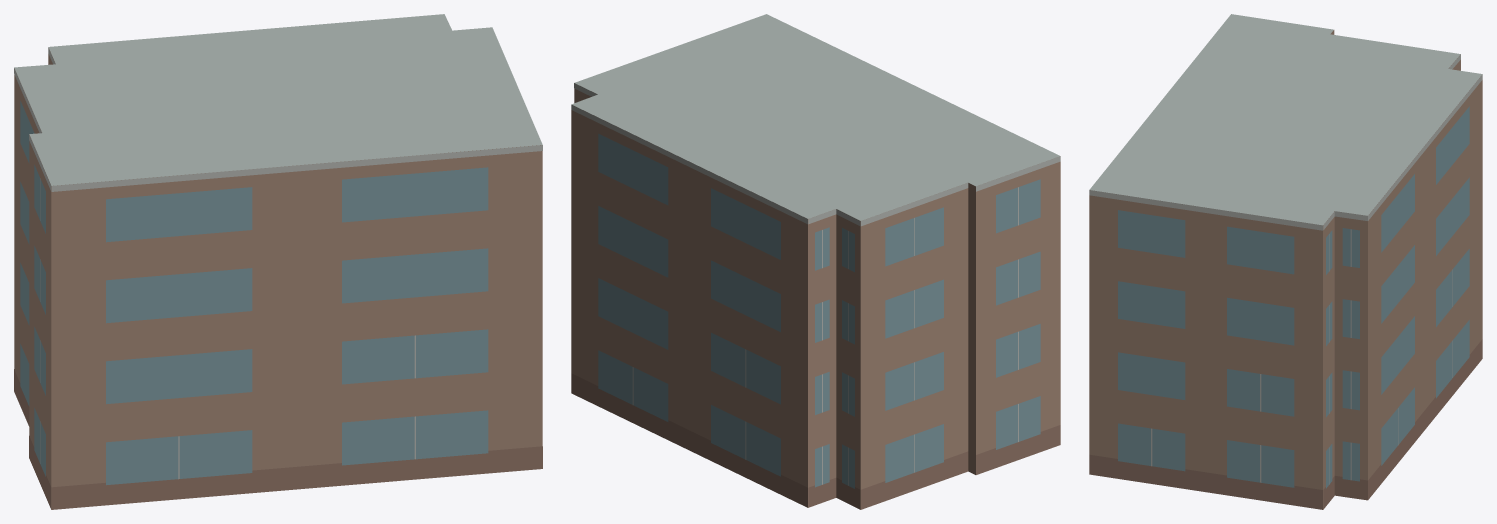
The model's file is survey-upis-32672348.glb.
3 renders of one model, left to right at view 1: azimuth 30°, elevation 25°; view 2: azimuth 150°, elevation 25°; view 3: azimuth 270°, elevation 25°, orthographic. The views are drawn at different scales.
Parts seen in each view (by area): view 1: survey-upis-32672348.tmp; view 2: survey-upis-32672348.tmp; view 3: survey-upis-32672348.tmp.
Part boxes in pixels (box(x1,y1,x2,y2)): survey-upis-32672348.tmp: box(14, 14, 542, 509); survey-upis-32672348.tmp: box(571, 14, 1060, 509); survey-upis-32672348.tmp: box(1089, 14, 1482, 509).
Size of the model in its own units: 20.63 by 12.94 by 16.23.
